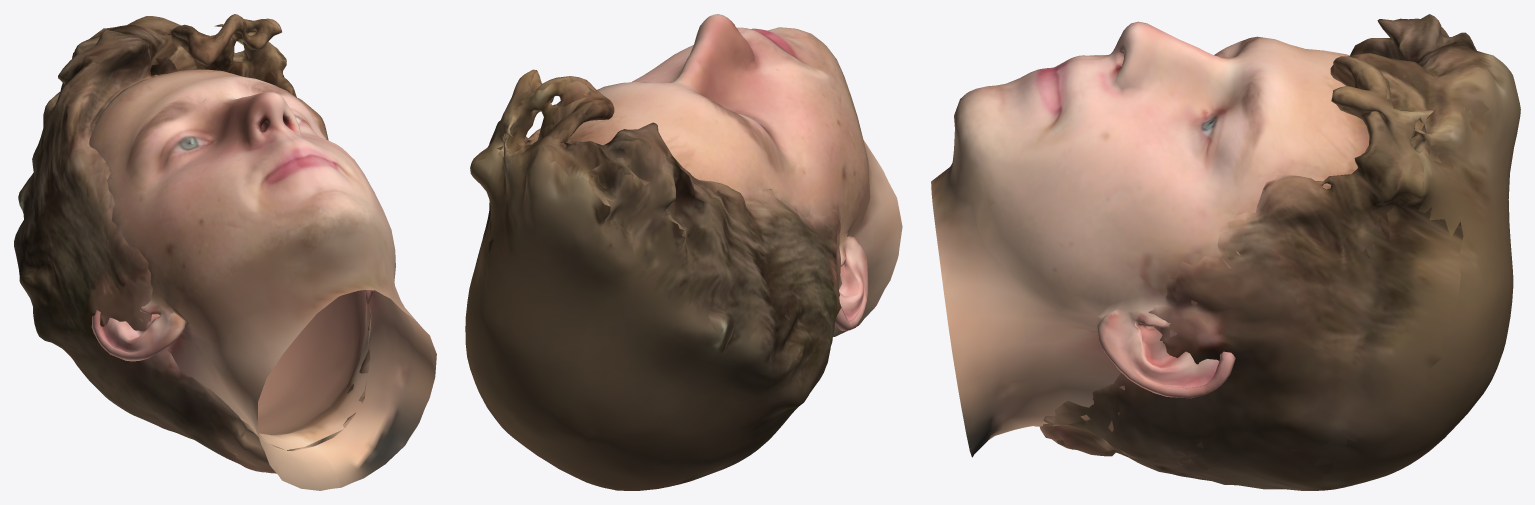
Rendered from aaron_closed_mouth.gltf.
The picture shows the model from 3 angles, left to right: view 1: azimuth 30°, elevation 25°; view 2: azimuth 150°, elevation 25°; view 3: azimuth 270°, elevation 25°; orthographic projection. The views are drawn at different scales.
Visible parts, largest first — view 1: model_T; view 2: model_T; view 3: model_T.
Part boxes in pixels (x1,y1,x2,y2): model_T: (14, 14, 436, 490); model_T: (465, 14, 902, 490); model_T: (931, 14, 1520, 490).
Bounding box in the file's own units: 0.1983 × 0.2369 × 0.278.
Materials: 1 (1 with a texture image).
